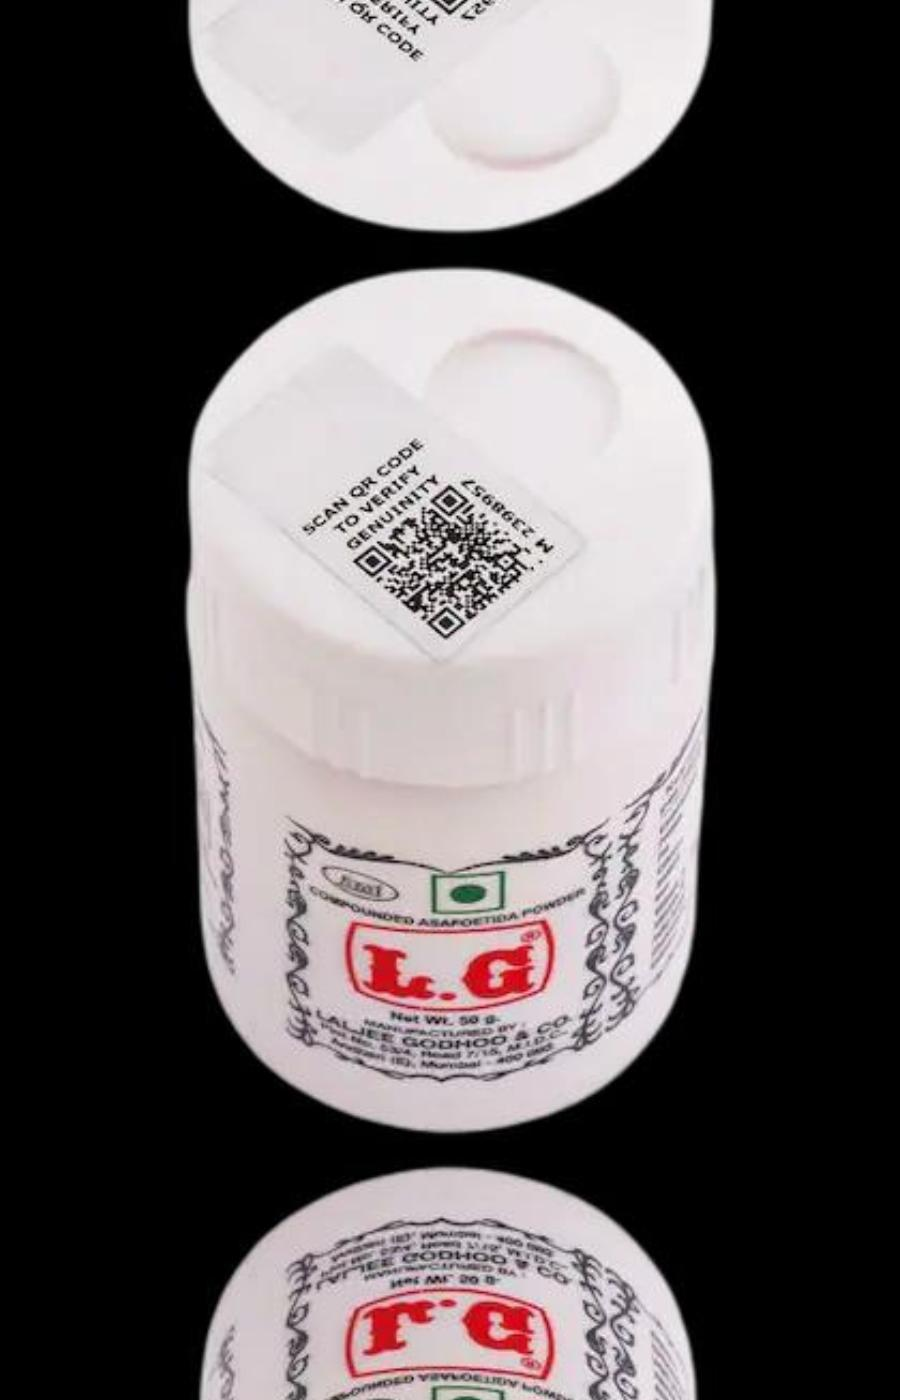LG Compounded Hing Powder 50 g: (168, 253, 714, 1133), (168, 0, 714, 246), (168, 1167, 714, 1400)
